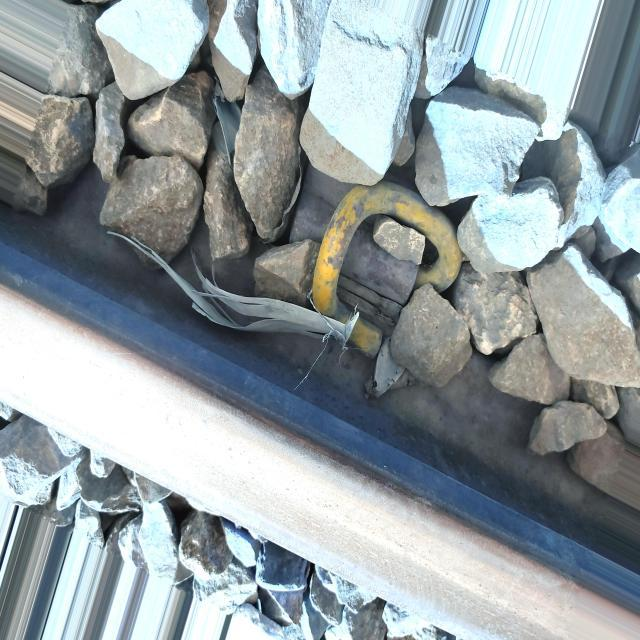Good Fasteners: (290, 165, 462, 356)
